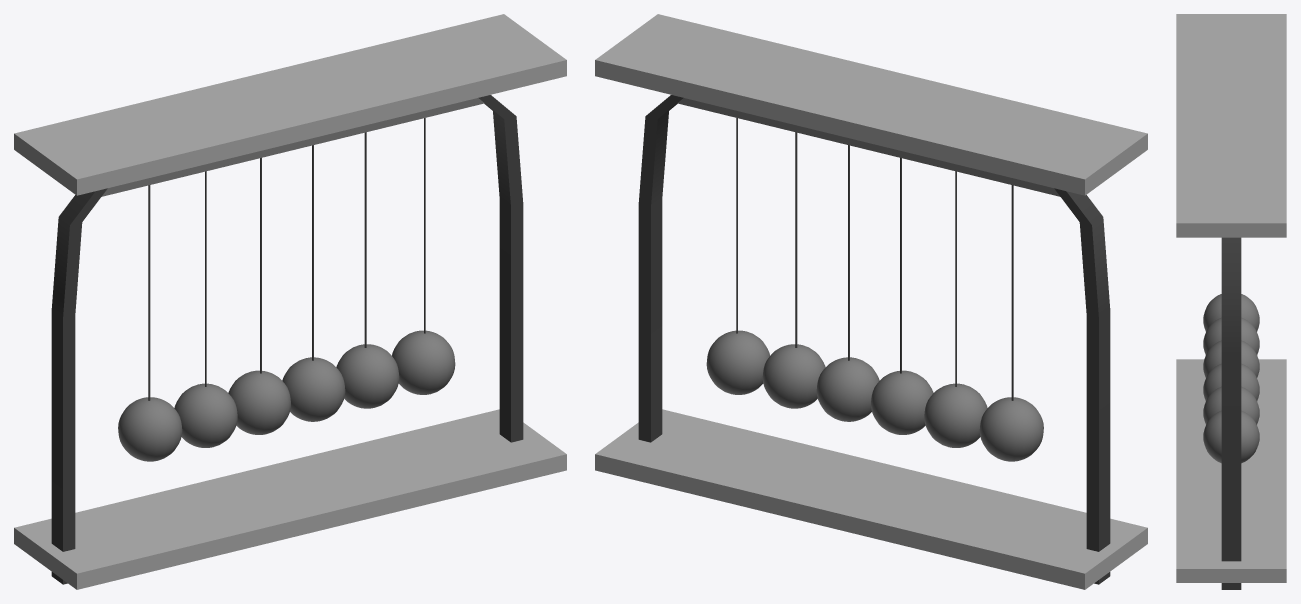
The model's file is Newtons Cradle.fbx.
3 renders of one model, left to right at view 1: azimuth 30°, elevation 25°; view 2: azimuth 150°, elevation 25°; view 3: azimuth 270°, elevation 25°, orthographic. The views are drawn at different scales.
Visible parts, largest first — view 1: thingy; view 2: thingy; view 3: thingy.
Boxes of the visible parts, left/top/right/bottom form: thingy: left=14, top=14, right=566, bottom=589; thingy: left=595, top=14, right=1147, bottom=589; thingy: left=1176, top=14, right=1286, bottom=589.
Bounding box in the file's own units: 7.06 × 5.88 × 1.57.
1 material, 1 textured.
